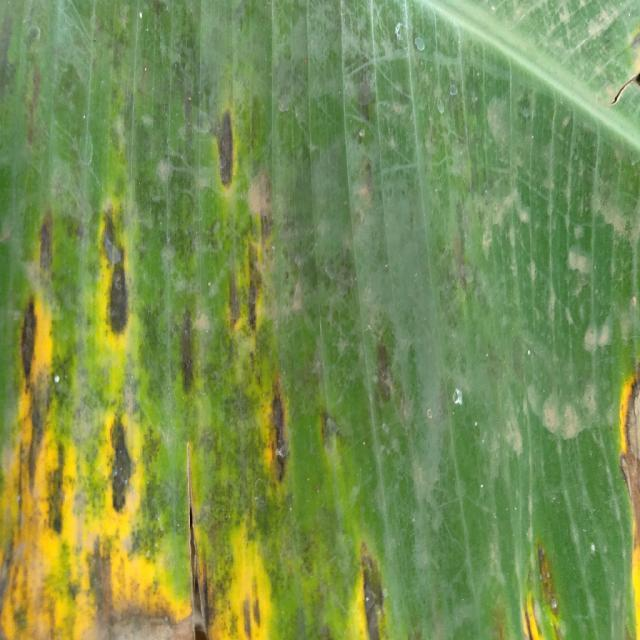Early_rust: (0, 67, 391, 640), (505, 371, 640, 640)
